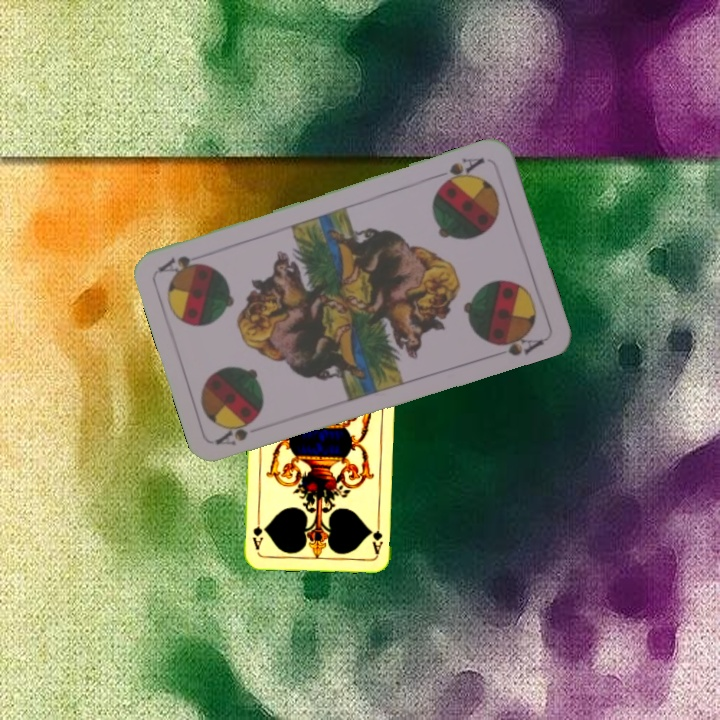GA: (368, 517, 385, 557)
SA: (435, 153, 488, 189), (212, 415, 259, 448)
